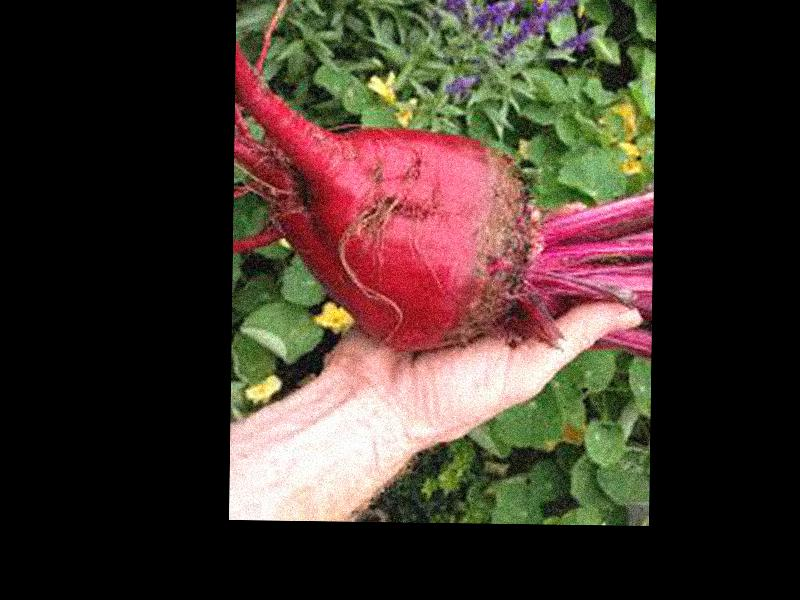Beet: (231, 49, 653, 354)
